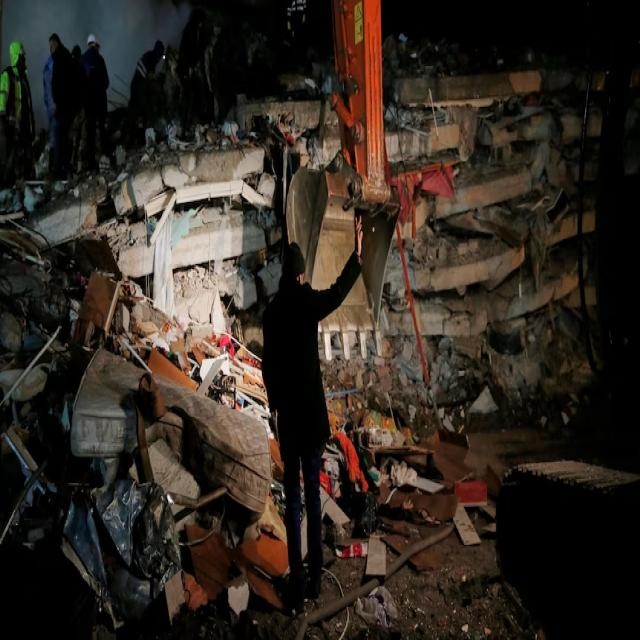collapsed building: (0, 76, 340, 622)
